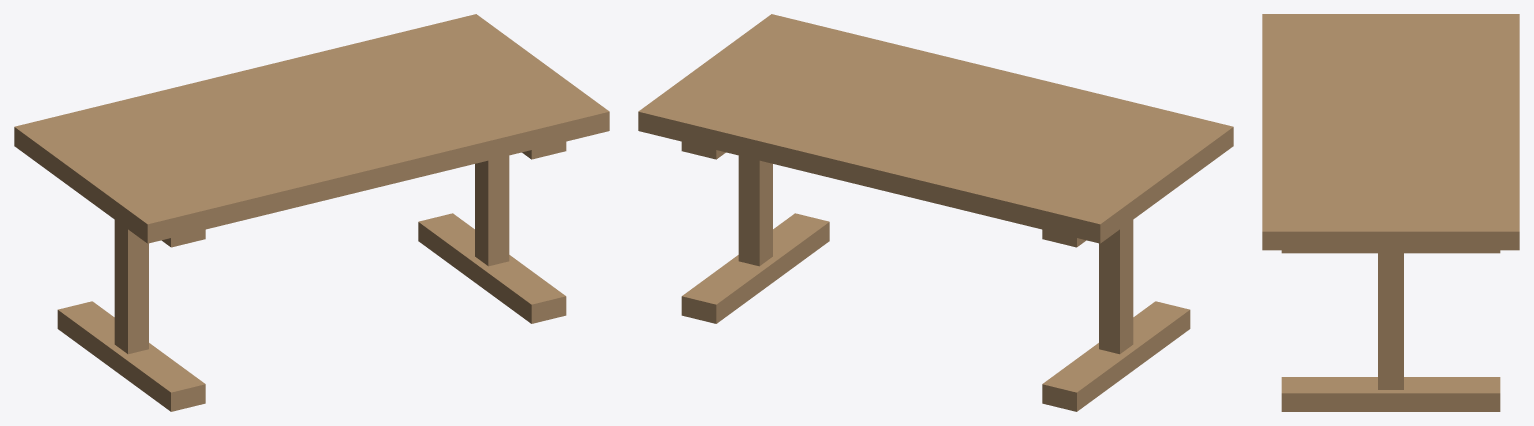
3 renders of one model, left to right at view 1: azimuth 30°, elevation 25°; view 2: azimuth 150°, elevation 25°; view 3: azimuth 270°, elevation 25°, orthographic. The views are drawn at different scales.
Parts seen in each view (by area): view 1: desktop, foot-0.78, foot0.78, beam-0.78, beam0.78; view 2: desktop, foot-0.78, foot0.78, beam-0.78, beam0.78; view 3: desktop, foot0.78, beam0.78, top0.78.
Part boxes in pixels (bbox=[...]): desktop: bbox=[14, 14, 609, 243]; foot-0.78: bbox=[57, 301, 205, 411]; foot0.78: bbox=[418, 213, 566, 323]; beam-0.78: bbox=[114, 220, 148, 354]; beam0.78: bbox=[475, 155, 509, 266]; desktop: bbox=[638, 14, 1233, 243]; foot-0.78: bbox=[1042, 301, 1190, 411]; foot0.78: bbox=[681, 213, 829, 323]; beam-0.78: bbox=[1099, 220, 1133, 354]; beam0.78: bbox=[738, 155, 772, 266]; desktop: bbox=[1262, 14, 1519, 250]; foot0.78: bbox=[1281, 377, 1500, 411]; beam0.78: bbox=[1378, 253, 1403, 389]; top0.78: bbox=[1281, 250, 1500, 253].
Bounding box in the file's own units: 2 × 0.84 × 1.
